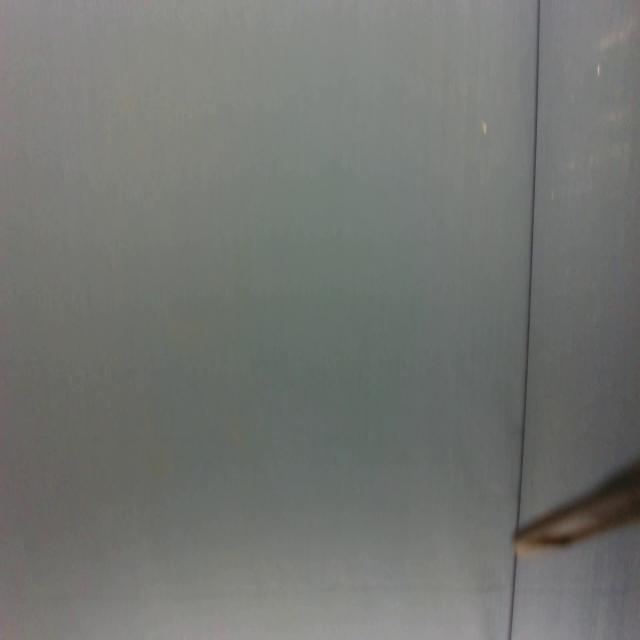crease: (516, 0, 543, 520), (507, 553, 518, 640)
hole: (481, 119, 489, 140), (596, 61, 602, 81)
